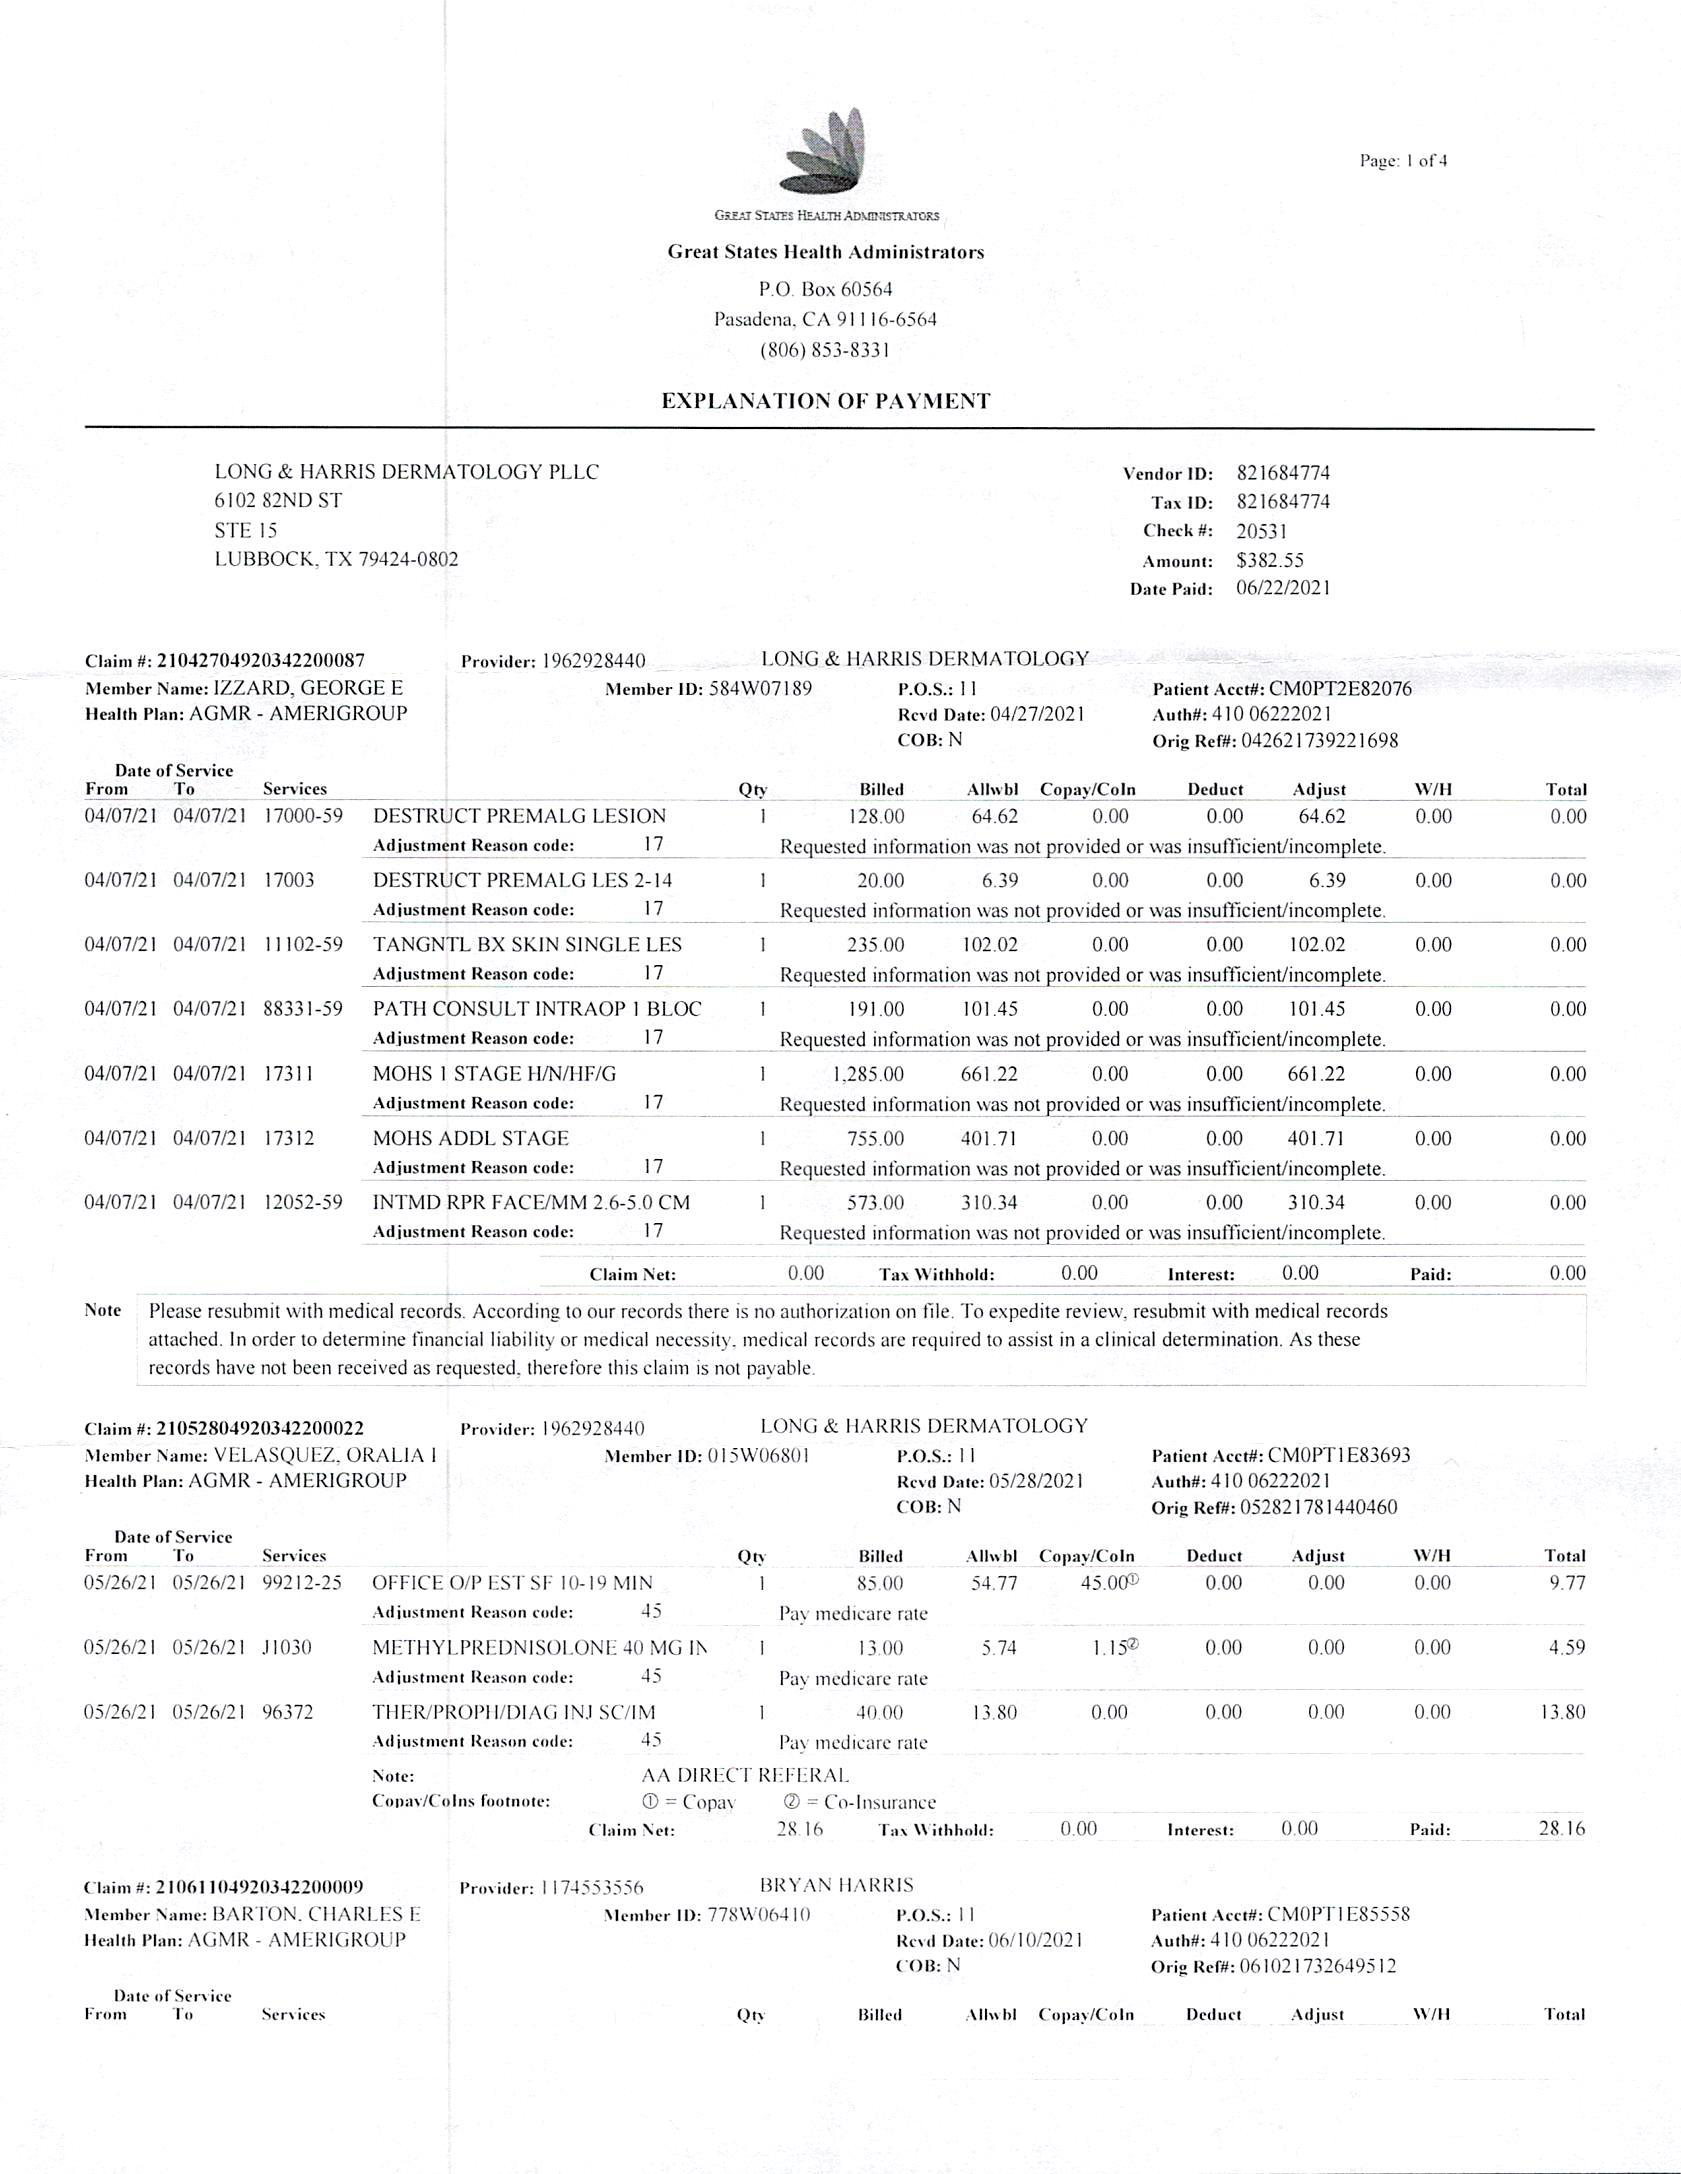data: (448, 1870, 1102, 1999), (460, 1392, 1104, 1519), (453, 639, 1097, 748), (74, 1401, 445, 1509), (69, 1870, 429, 1973), (72, 635, 411, 734), (1132, 1886, 1436, 1990), (1145, 656, 1423, 759), (1154, 1433, 1416, 1518)
table: (60, 750, 1602, 1308), (74, 1523, 1589, 1856)
